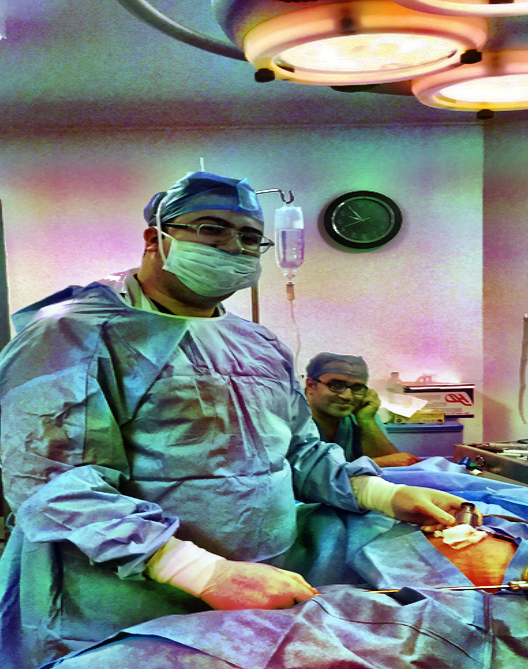mask_weared_incorrect: (142, 176, 281, 302)
